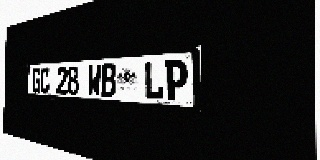2: (57, 66, 67, 95)
8: (67, 66, 79, 95)
B: (101, 63, 116, 97)
C: (40, 67, 50, 93)
G: (32, 68, 41, 93)
L: (144, 60, 164, 100)
P: (165, 59, 188, 101)
W: (87, 64, 101, 96)
